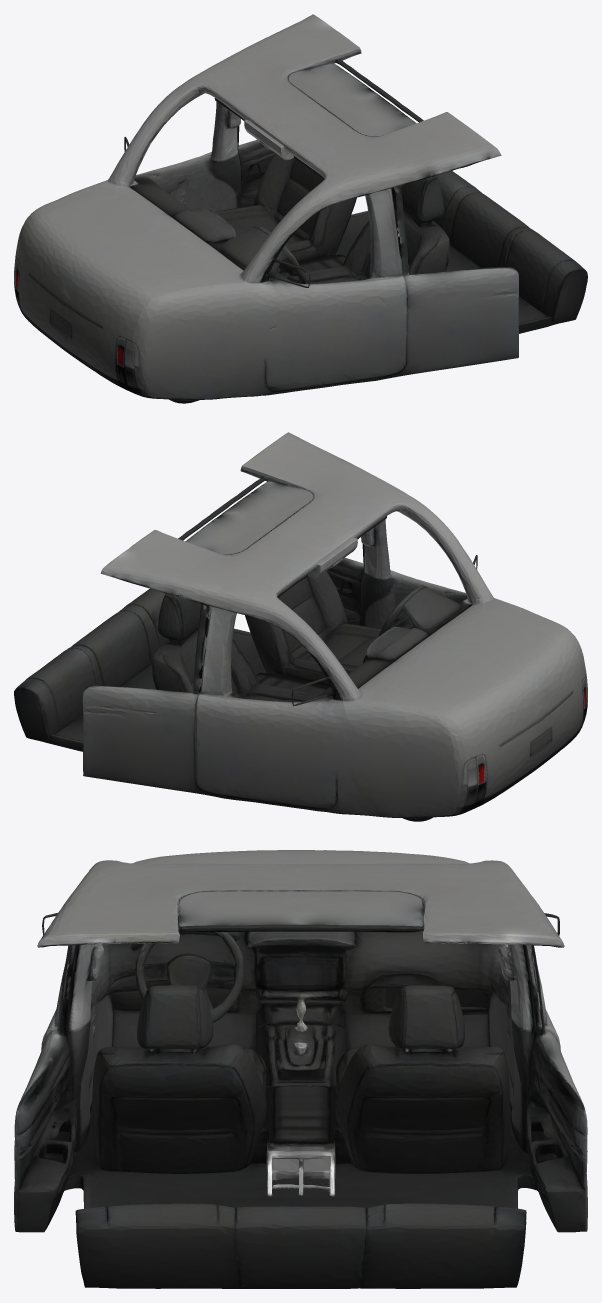
File: car+interior+3d+model.glb
The picture shows the model from 3 angles, top to bottom: view 1: azimuth 30°, elevation 25°; view 2: azimuth 150°, elevation 25°; view 3: azimuth 270°, elevation 25°; orthographic projection. The views are drawn at different scales.
Visible parts, largest first — view 1: tripo_node_0d8f7139-5a70-4666-966f-8ebd31d44974; view 2: tripo_node_0d8f7139-5a70-4666-966f-8ebd31d44974; view 3: tripo_node_0d8f7139-5a70-4666-966f-8ebd31d44974.
Part boxes in pixels (bbox=[...]): tripo_node_0d8f7139-5a70-4666-966f-8ebd31d44974: bbox=[14, 14, 587, 403]; tripo_node_0d8f7139-5a70-4666-966f-8ebd31d44974: bbox=[14, 432, 587, 821]; tripo_node_0d8f7139-5a70-4666-966f-8ebd31d44974: bbox=[14, 850, 587, 1288].
Size of the model in its own units: 0.9999 by 0.4657 by 0.7926.
1 material, 1 textured.
